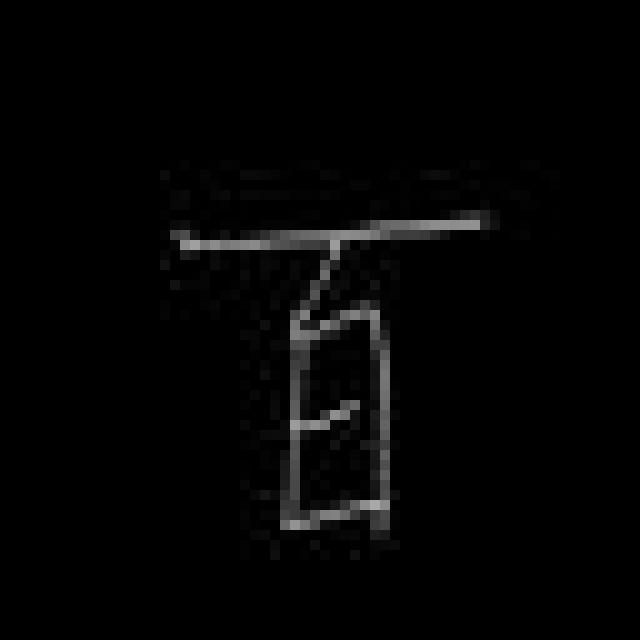100 -a hundred-: (159, 196, 491, 542)
